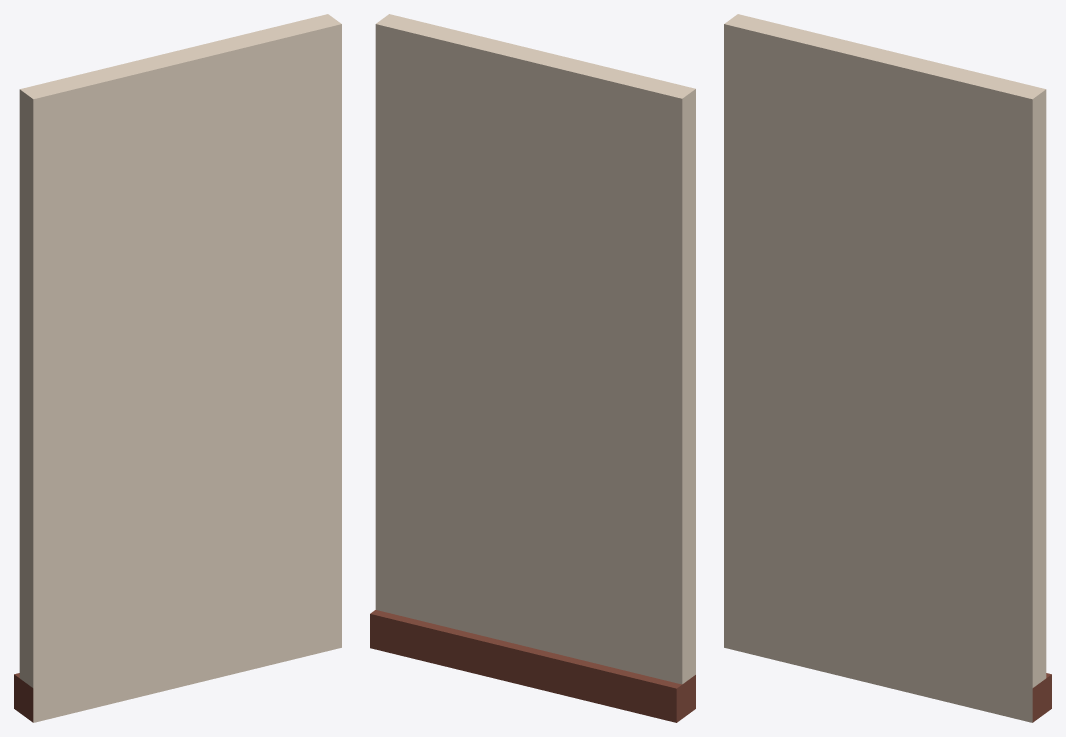
File: Wall_02.fbx
The picture shows the model from 3 angles, left to right: view 1: azimuth 30°, elevation 25°; view 2: azimuth 150°, elevation 25°; view 3: azimuth 330°, elevation 25°; orthographic projection.
Parts seen in each view (by area): view 1: Cube.063; view 2: Cube.063; view 3: Cube.063.
Boxes of the visible parts, bbox=[...] form: Cube.063: bbox=[14, 14, 341, 722]; Cube.063: bbox=[370, 14, 695, 722]; Cube.063: bbox=[724, 14, 1051, 722].
Size of the model in its own units: 3.23 by 0.3513 by 6.25.
